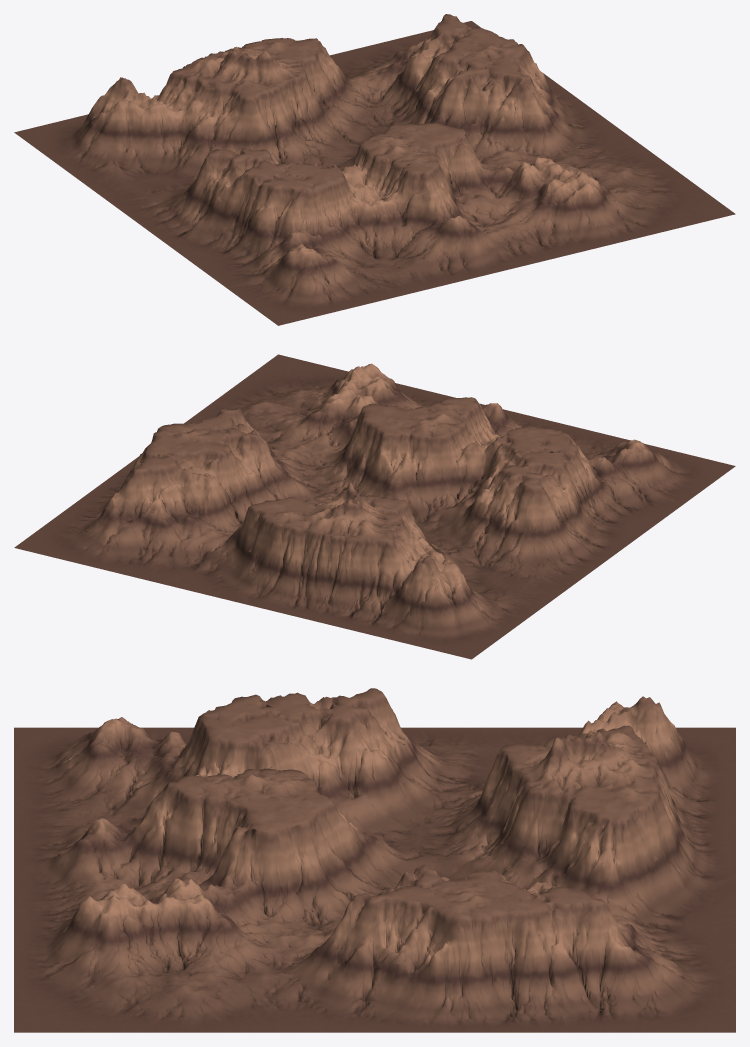
Rendered from antTexture2.glb.
3 views of the same model, one above another, from view 1: azimuth 30°, elevation 25°; view 2: azimuth 150°, elevation 25°; view 3: azimuth 270°, elevation 25° (orthographic). The views are drawn at different scales.
Parts seen in each view (by area): view 1: Landscape; view 2: Landscape; view 3: Landscape.
Boxes of the visible parts, bbox=[...] form: Landscape: bbox=[14, 14, 735, 325]; Landscape: bbox=[14, 354, 735, 659]; Landscape: bbox=[14, 688, 735, 1032].
Size of the model in its own units: 2 by 0.3509 by 2.
Materials: 1 (1 with a texture image).
